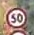limite 50: (5, 6, 27, 28)
